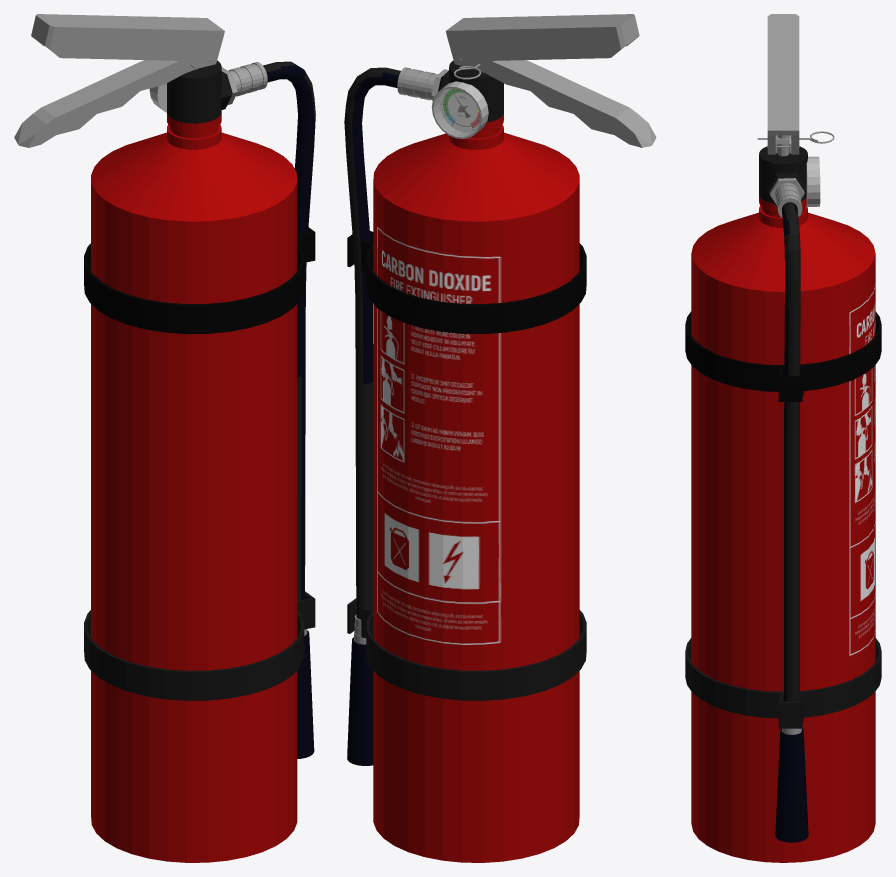
The model's file is 4-Dioxido-de-carbono.glb.
The picture shows the model from 3 angles, left to right: view 1: azimuth 30°, elevation 25°; view 2: azimuth 150°, elevation 25°; view 3: azimuth 270°, elevation 25°; orthographic projection. The views are drawn at different scales.
Parts seen in each view (by area): view 1: fire extinguisher, Hose, Top hand, belt, belt_palette_0.001, Lower hand3; view 2: fire extinguisher, Hose, Top hand, belt, belt_palette_0.001, Lower hand3, Manometer454, glass; view 3: fire extinguisher, Hose, belt, belt_palette_0.001, Top hand, Manometer454, bracing.
Part boxes in pixels (x1,y1,x2,y2): fire extinguisher: (91, 60, 297, 862); Hose: (228, 61, 315, 758); Top hand: (31, 14, 224, 68); belt: (84, 591, 315, 700); belt_palette_0.001: (84, 227, 315, 334); Lower hand3: (14, 60, 195, 147); fire extinguisher: (373, 60, 579, 862); Hose: (344, 67, 437, 765); Top hand: (446, 14, 639, 67); belt: (347, 598, 586, 700); belt_palette_0.001: (347, 231, 586, 334); Lower hand3: (474, 60, 656, 147); Manometer454: (431, 81, 488, 138); glass: (433, 88, 480, 136); fire extinguisher: (691, 144, 875, 862); Hose: (775, 183, 808, 842); belt: (685, 638, 881, 728); belt_palette_0.001: (685, 311, 881, 401); Top hand: (767, 14, 799, 154); Manometer454: (806, 156, 820, 206); bracing: (766, 172, 806, 206).
Size of the model in its own units: 0.8424 by 2.23 by 0.534.
5 materials, 3 textured.
